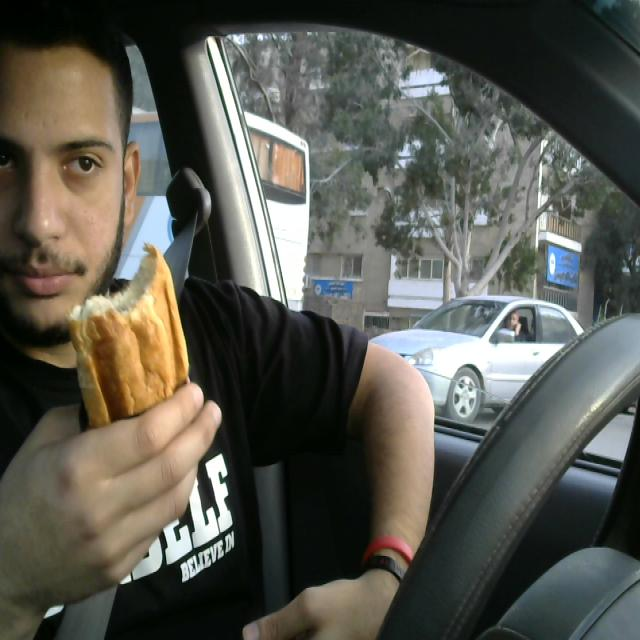eating: (73, 239, 195, 514)
